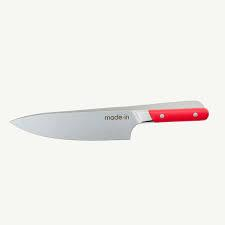Knife: (9, 99, 209, 141)
